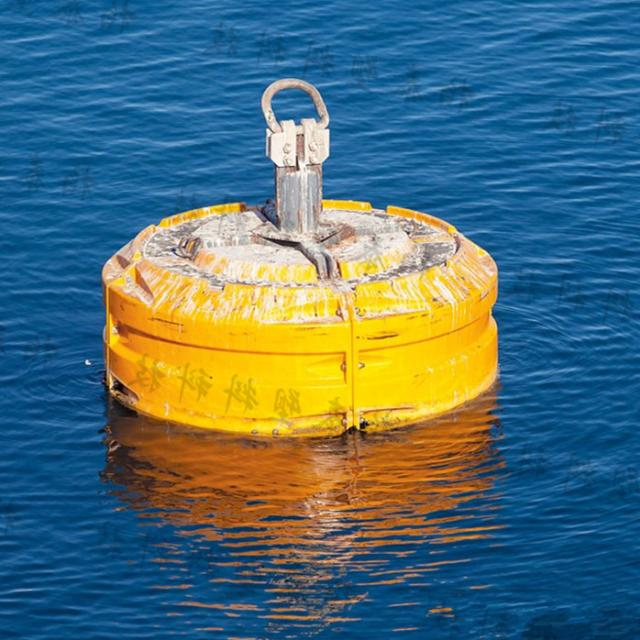buoy: (104, 74, 502, 441)
